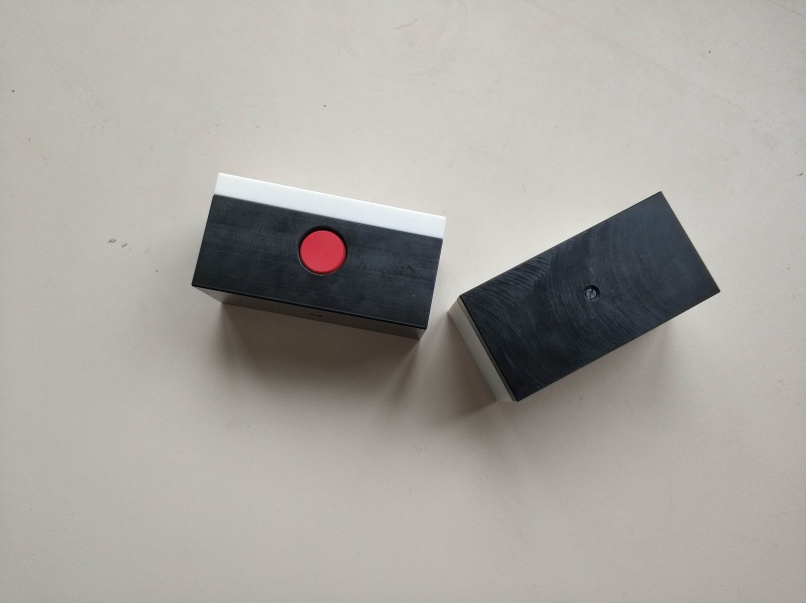white+black+red: (190, 171, 448, 340)
